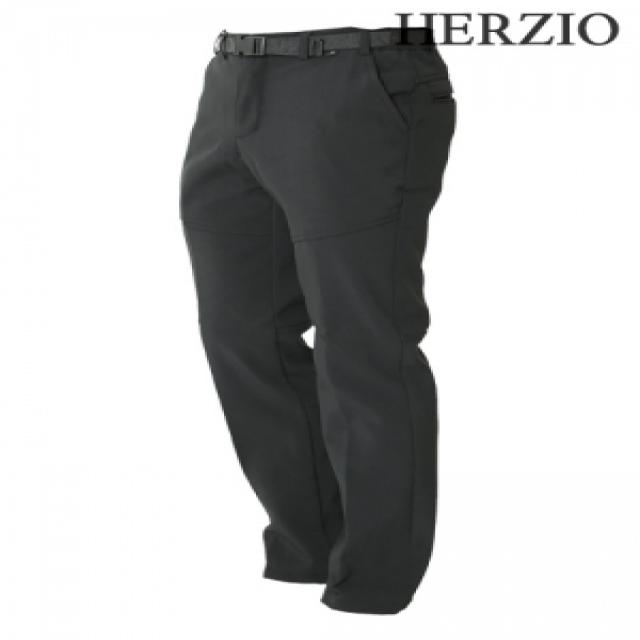pants: (170, 25, 458, 614)
